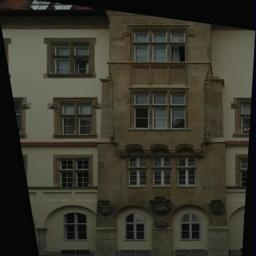building: (96, 0, 230, 256)
